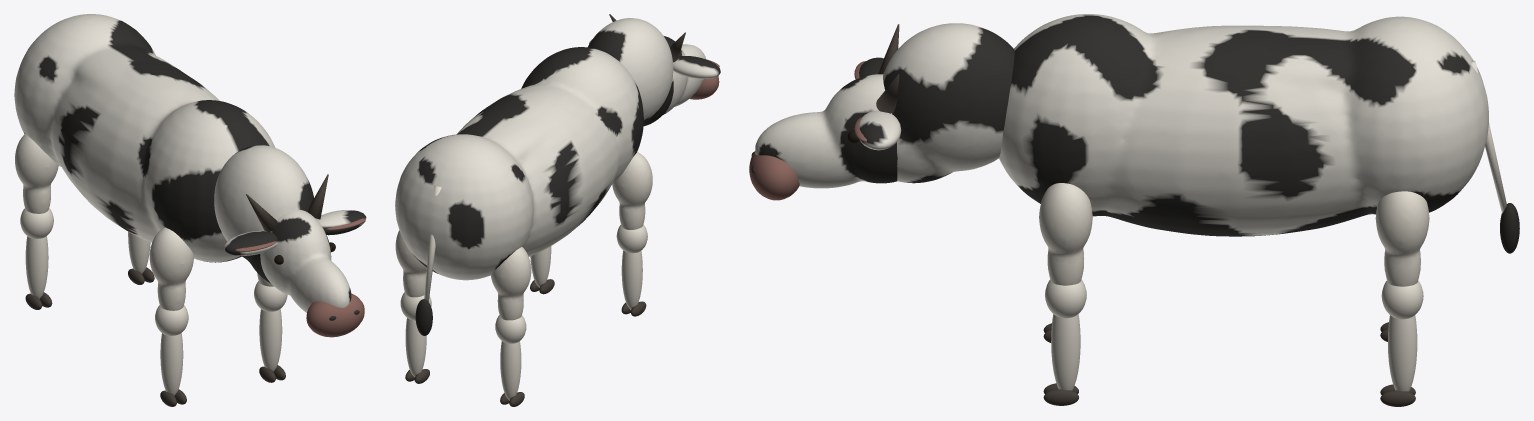
The model's file is cow.glb.
3 renders of one model, left to right at view 1: azimuth 30°, elevation 25°; view 2: azimuth 150°, elevation 25°; view 3: azimuth 270°, elevation 25°, orthographic. The views are drawn at different scales.
Visible parts, largest first — view 1: Body, NeckMuscle, Skull, UpperLeg, UpperLeg.002, Muzzle, LowerLeg.002, LowerLeg, LowerLeg.001, Ear, KneeMuscle.002, KneeMuscle (+5 smaller); view 2: Body, NeckMuscle, UpperLeg, UpperLeg.002, UpperLeg.003, LowerLeg.002, LowerLeg, Skull, LowerLeg.003, Ear, KneeMuscle.002, KneeMuscle (+5 smaller); view 3: Body, NeckMuscle, Skull, UpperLeg.001, UpperLeg.003, LowerLeg.001, LowerLeg.003, Muzzle, Ear.001, KneeMuscle.003, KneeMuscle.001, TailTuft (+1 smaller).
Boxes of the visible parts, bbox=[...] form: Body: bbox=[14, 14, 275, 262]; NeckMuscle: bbox=[214, 145, 313, 283]; Skull: bbox=[260, 210, 351, 312]; UpperLeg: bbox=[149, 227, 193, 310]; UpperLeg.002: bbox=[15, 134, 58, 213]; Muzzle: bbox=[306, 293, 364, 337]; LowerLeg.002: bbox=[25, 236, 48, 298]; LowerLeg: bbox=[160, 333, 183, 395]; LowerLeg.001: bbox=[259, 309, 282, 371]; Ear: bbox=[224, 230, 277, 255]; KneeMuscle.002: bbox=[20, 208, 53, 238]; KneeMuscle: bbox=[155, 305, 188, 335]; Body: bbox=[395, 47, 643, 280]; NeckMuscle: bbox=[588, 18, 673, 126]; UpperLeg: bbox=[612, 152, 652, 229]; UpperLeg.002: bbox=[490, 247, 531, 320]; UpperLeg.003: bbox=[395, 230, 426, 297]; LowerLeg.002: bbox=[500, 341, 521, 400]; LowerLeg: bbox=[621, 250, 642, 309]; Skull: bbox=[663, 36, 705, 114]; LowerLeg.003: bbox=[405, 318, 426, 377]; Ear: bbox=[673, 56, 720, 79]; KneeMuscle.002: bbox=[495, 315, 526, 343]; KneeMuscle: bbox=[616, 225, 647, 253]; Body: bbox=[999, 14, 1488, 236]; NeckMuscle: bbox=[883, 23, 1014, 183]; Skull: bbox=[755, 74, 897, 188]; UpperLeg.001: bbox=[1039, 183, 1092, 285]; UpperLeg.003: bbox=[1375, 191, 1429, 286]; LowerLeg.001: bbox=[1051, 314, 1080, 390]; LowerLeg.003: bbox=[1388, 315, 1417, 391]; Muzzle: bbox=[749, 151, 799, 200]; Ear.001: bbox=[859, 110, 901, 150]; KneeMuscle.003: bbox=[1381, 280, 1423, 319]; KneeMuscle.001: bbox=[1045, 279, 1086, 318]; TailTuft: bbox=[1500, 203, 1519, 253].
Size of the model in its own units: 0.828 by 1.55 by 3.09.
